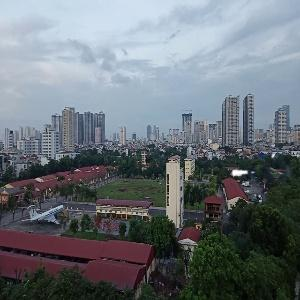drone: (232, 151, 290, 209)
